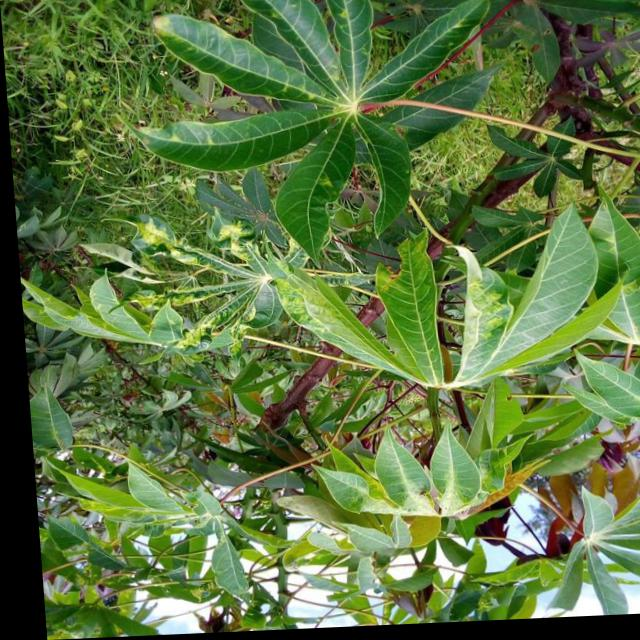Mosaico: (266, 392, 570, 553), (351, 227, 619, 393), (115, 171, 336, 331), (98, 452, 344, 563)
